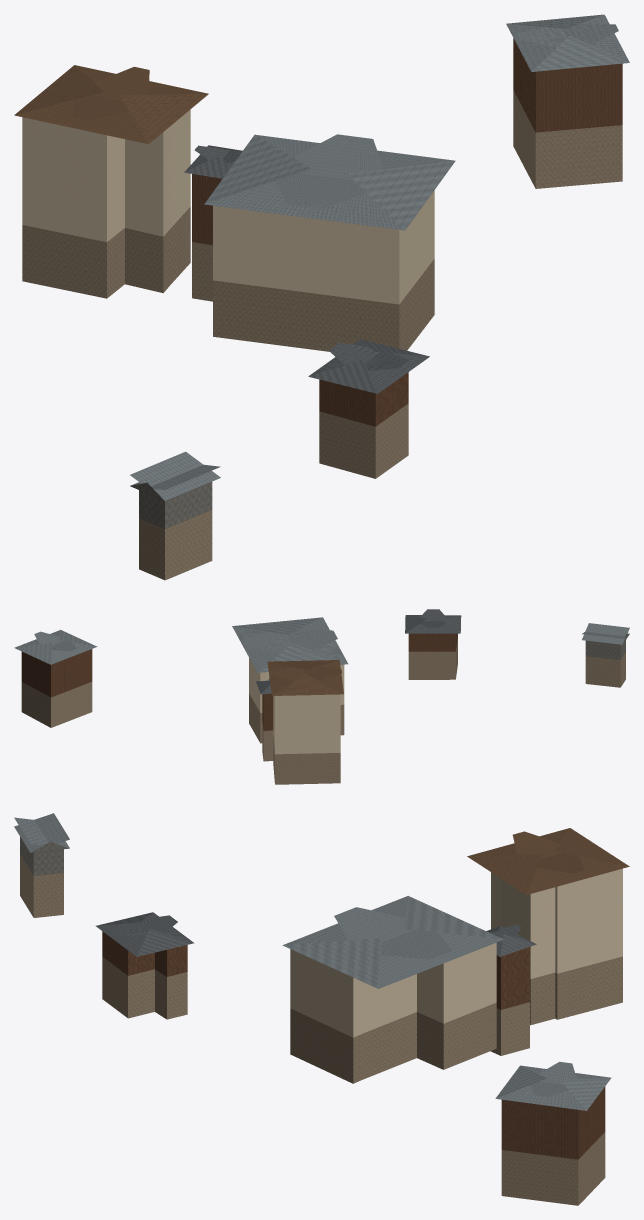
File: bld_c23_30_392.gltf
3 views of the same model, one above another, from view 1: azimuth 30°, elevation 25°; view 2: azimuth 150°, elevation 25°; view 3: azimuth 270°, elevation 25° (orthographic). The views are drawn at different scales.
Parts seen in each view (by area): view 1: bld_c23_30_392; view 2: bld_c23_30_392; view 3: bld_c23_30_392.
Part boxes in pixels (left/top/right/bottom): bld_c23_30_392: left=14, top=14, right=629, bottom=580; bld_c23_30_392: left=14, top=609, right=629, bottom=784; bld_c23_30_392: left=14, top=813, right=629, bottom=1205.
Bounding box in the file's own units: 75.78 × 17.7 × 61.74.
8 materials, 8 textured.
